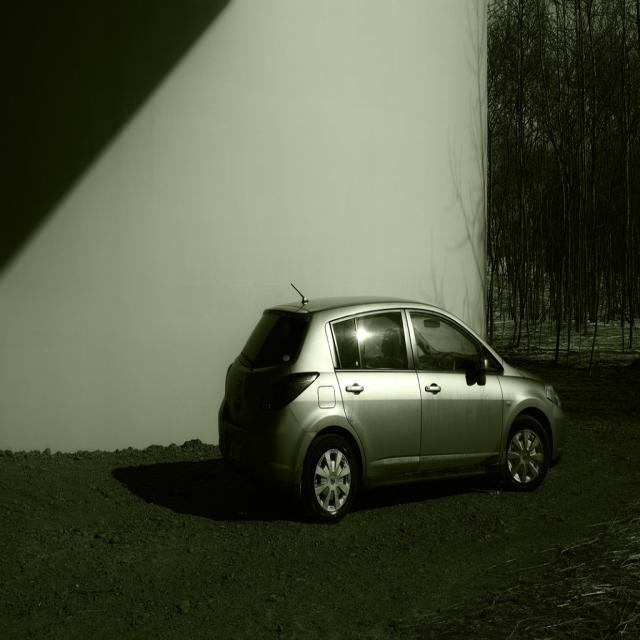car: (215, 290, 562, 525)
